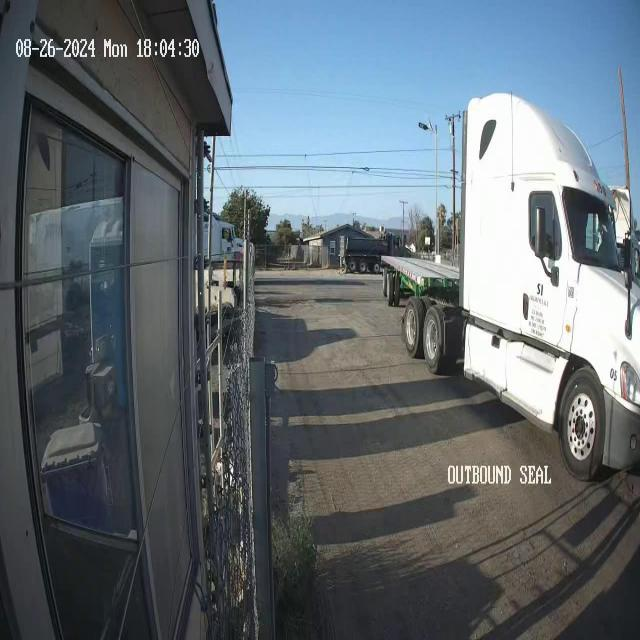TRUCK_IN: (381, 69, 639, 483)
